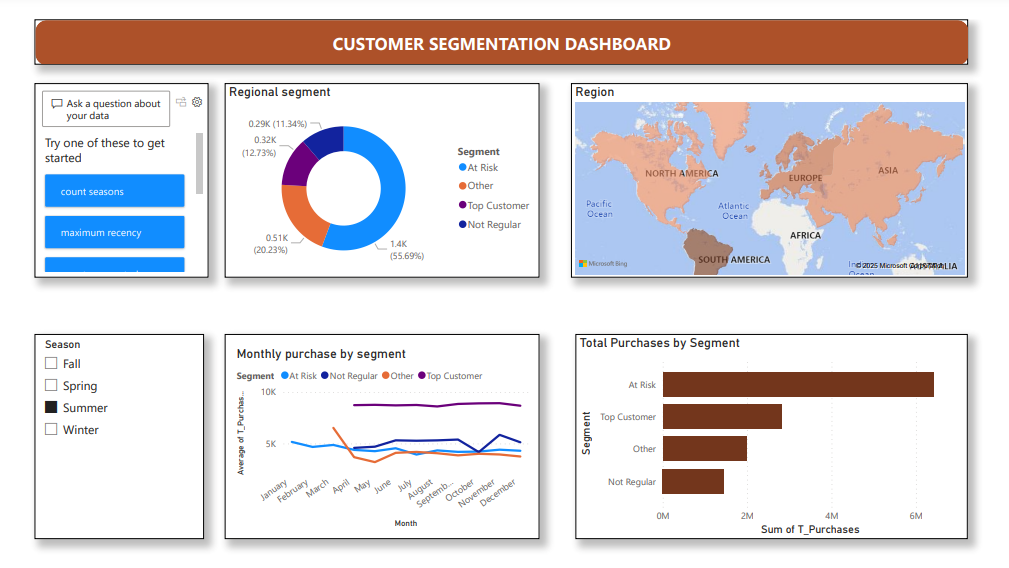

This screenshot's page, from the dashboard's own definition file:
{"tool":"powerbi","page":{"name":"Page 1","canvas":[1280,720],"ordinal":0},"visuals":[{"type":"donutChart","title":"Regional segment ","fields":{"Category":["segmented_customers.Segment"],"Y":["CountNonNull(segmented_customers.Region)"]},"box":[270.2,84.7,417.7,258.5],"z":0},{"type":"clusteredBarChart","title":"Total Purchases by Segment","fields":{"Category":["segmented_customers.Segment"],"Y":["Sum(segmented_customers.T_Purchases)"]},"box":[736.1,417.7,521.4,271.6],"z":1000},{"type":"filledMap","fields":{"Category":["segmented_customers.Region"]},"box":[730.2,84.7,527.2,258.5],"z":2000},{"type":"lineChart","title":"Monthly purchase by segment","fields":{"Y":["Avg(segmented_customers.T_Purchases)"],"Series":["segmented_customers.Segment"],"Category":["segmented_customers.Date.Variation.Date Hierarchy.Month"]},"box":[270.2,417.7,417.7,271.6],"z":3000},{"type":"slicer","fields":{"Values":["segmented_customers.Season"]},"box":[17.5,417.7,224.9,271.6],"z":4000},{"type":"shape","box":[17.5,0,1239.9,59.9],"z":5000},{"type":"qnaVisual","box":[17.5,84.7,230.8,258.5],"z":6000}]}

Visuals, with their boxes in screenshot pixels (x1, y1, x2, y2), scaled from the page's 1280x720 canvas onto the 1009x568 screenshot:
"Regional segment " donutChart: locate(213, 67, 542, 271)
"Total Purchases by Segment" clusteredBarChart: locate(580, 330, 991, 544)
filledMap - segmented_customers.Region: locate(576, 67, 991, 271)
"Monthly purchase by segment" lineChart: locate(213, 330, 542, 544)
slicer - segmented_customers.Season: locate(14, 330, 191, 544)
shape: locate(14, 0, 991, 47)
qnaVisual: locate(14, 67, 196, 271)
